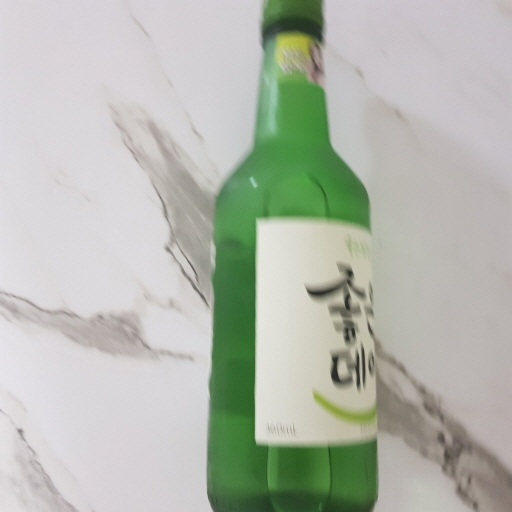Glass_0: (203, 1, 383, 512)
